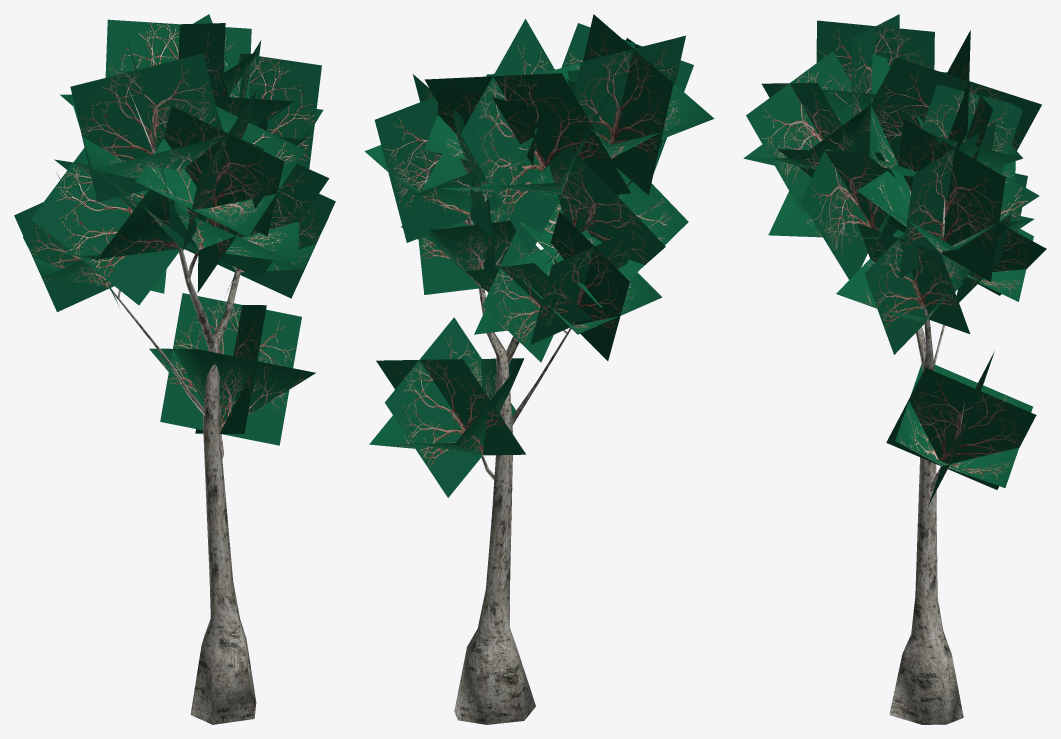
The model's file is decd_whitebirchtreebranches_l0.fbx.
The picture shows the model from 3 angles, left to right: view 1: azimuth 30°, elevation 25°; view 2: azimuth 150°, elevation 25°; view 3: azimuth 270°, elevation 25°; orthographic projection. The views are drawn at different scales.
Parts seen in each view (by area): view 1: mesh_node; view 2: mesh_node; view 3: mesh_node.
Boxes of the visible parts, x1=… form: mesh_node: x1=14, y1=14, x2=335, y2=724; mesh_node: x1=364, y1=14, x2=714, y2=724; mesh_node: x1=743, y1=14, x2=1046, y2=724.
Size of the model in its own units: 6.59 by 14.69 by 6.24.
